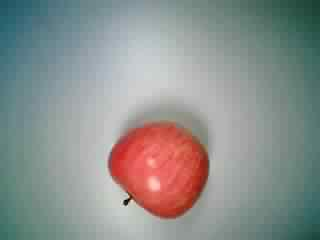apple: (107, 119, 212, 221)
